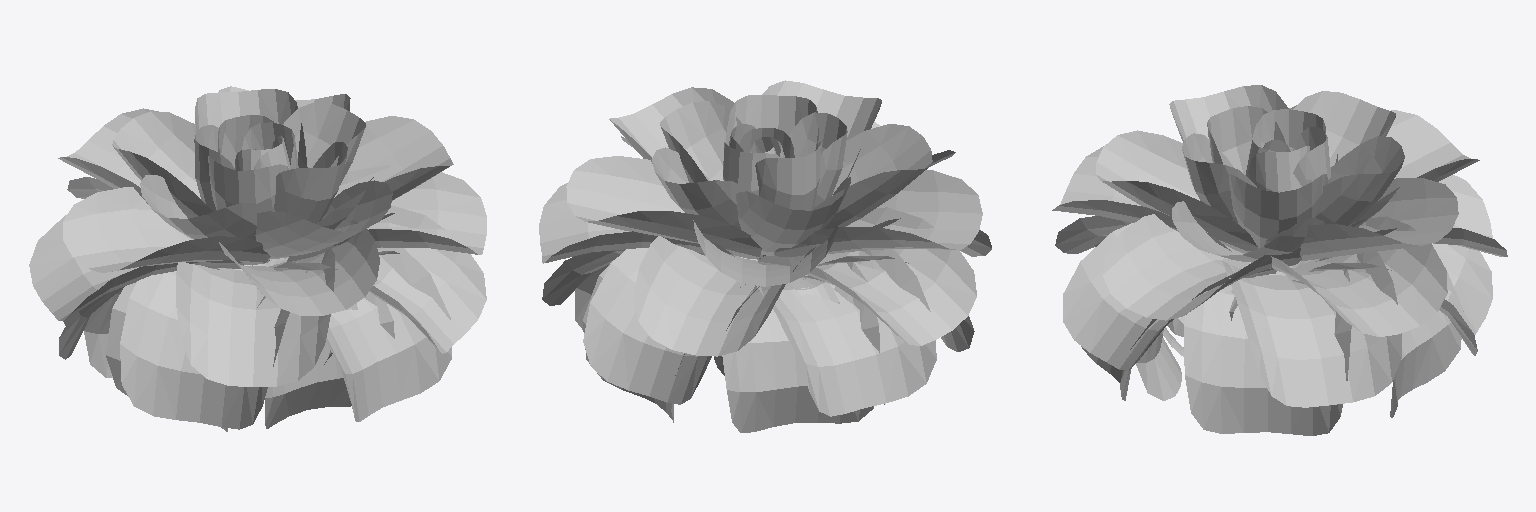
The model's file is FlowerTopModel_03_seq_0057.obj.
3 renders of one model, left to right at view 1: azimuth 30°, elevation 25°; view 2: azimuth 150°, elevation 25°; view 3: azimuth 270°, elevation 25°, orthographic.
Parts seen in each view (by area): view 1: FlowerTopModel_03; view 2: FlowerTopModel_03; view 3: FlowerTopModel_03.
Part boxes in pixels (x1,y1,x2,y2): FlowerTopModel_03: (29, 86, 486, 431); FlowerTopModel_03: (539, 80, 991, 432); FlowerTopModel_03: (1052, 85, 1507, 435).
Bounding box in the file's own units: 930 × 549 × 930.